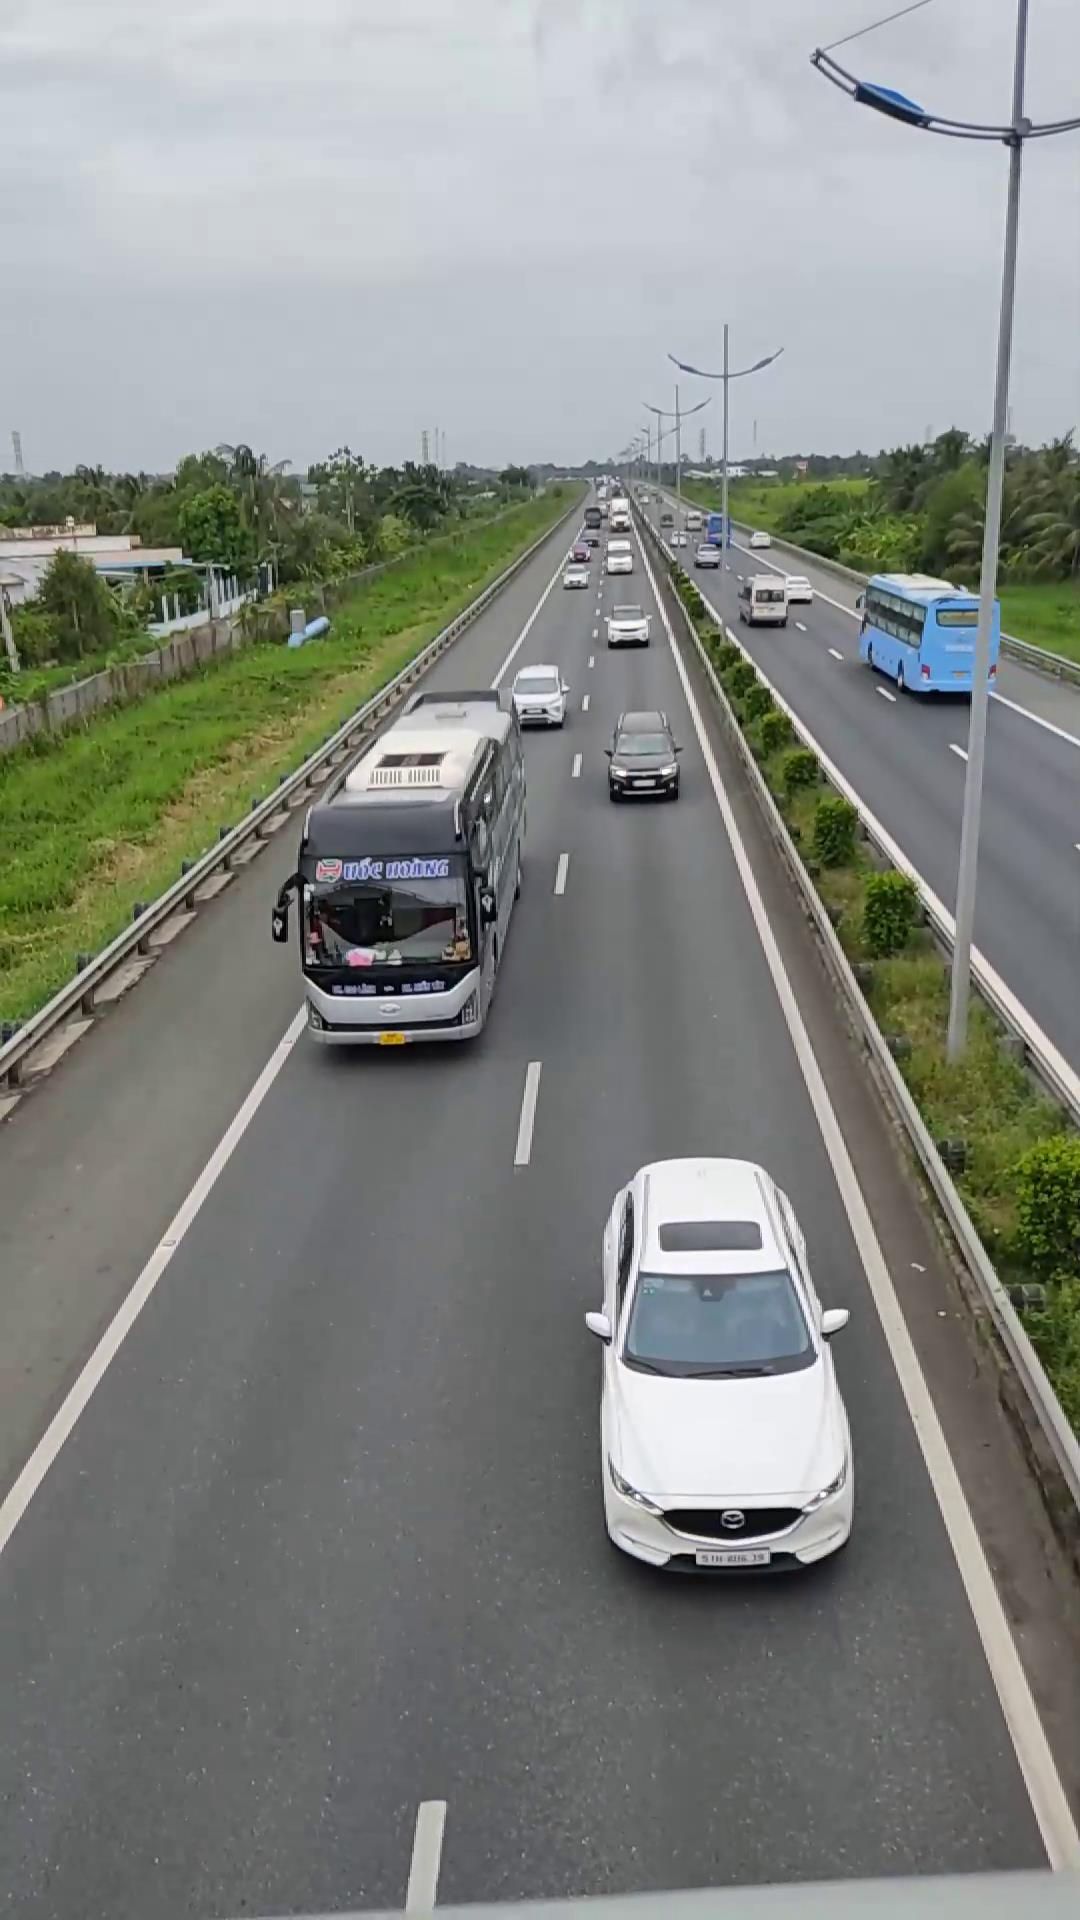bus: (280, 696, 528, 1049)
car: (581, 1156, 856, 1579), (602, 710, 683, 801), (501, 663, 575, 727)
